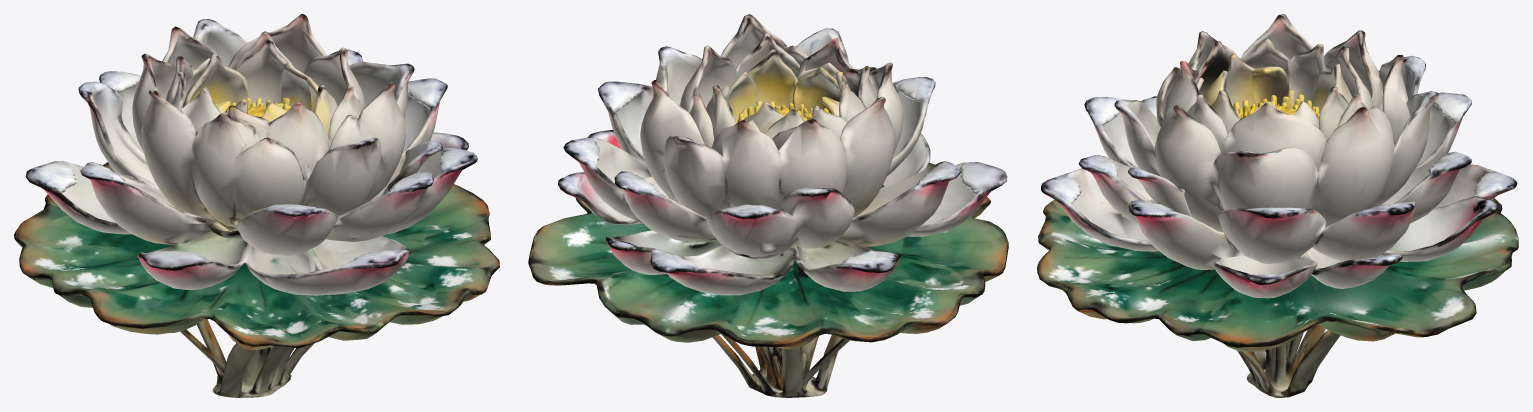
File: 千年雪莲.glb
3 renders of one model, left to right at view 1: azimuth 30°, elevation 25°; view 2: azimuth 150°, elevation 25°; view 3: azimuth 270°, elevation 25°, orthographic.
Visible parts, largest first — view 1: node_0; view 2: node_0; view 3: node_0.
Boxes of the visible parts, x1,y1,x2,y2 form: node_0: (14,14,499,397); node_0: (528,14,1008,397); node_0: (1037,14,1518,397).
Size of the model in its own units: 1.1 by 0.8118 by 1.11.
Materials: 1 (1 with a texture image).
